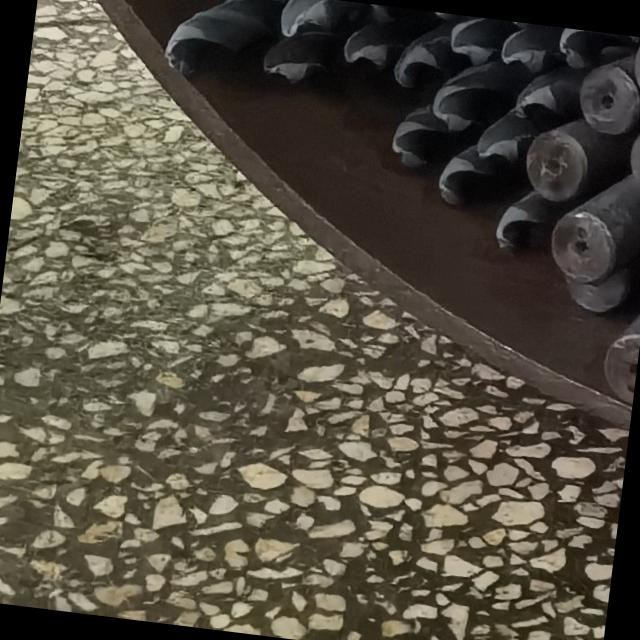tool: (523, 110, 637, 210), (546, 204, 618, 284), (574, 60, 640, 136), (564, 253, 630, 312), (600, 328, 640, 404), (625, 110, 640, 194), (631, 37, 640, 102)
tool_b: (428, 53, 526, 137), (156, 5, 244, 81), (516, 61, 589, 126), (492, 193, 554, 259), (496, 20, 564, 72), (557, 27, 639, 70), (388, 106, 440, 172), (439, 147, 494, 209), (444, 14, 506, 67), (258, 41, 322, 86), (392, 36, 442, 90), (277, 0, 337, 43), (342, 28, 392, 76), (476, 118, 526, 166), (362, 3, 408, 26)
